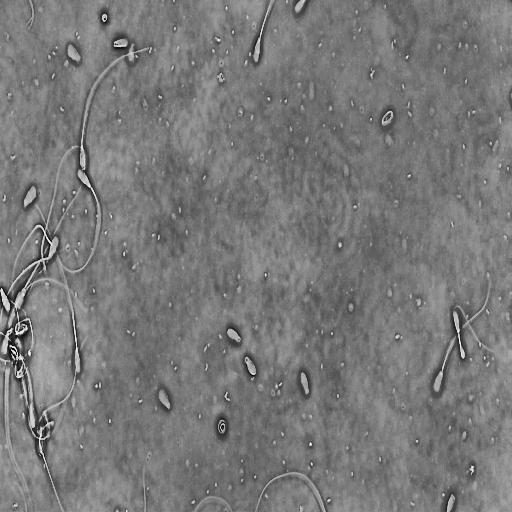dirt-particles: (216, 415, 229, 438), (101, 10, 109, 24)
folded-tail: (0, 256, 48, 322), (453, 305, 493, 351), (458, 334, 465, 359), (458, 333, 461, 342)
loose-head: (22, 183, 38, 211), (156, 385, 172, 412), (298, 367, 311, 399), (243, 354, 258, 380), (225, 325, 243, 346), (0, 286, 11, 315), (112, 35, 130, 51)
loose-tail: (11, 221, 55, 304)
normal: (76, 42, 156, 172), (427, 264, 496, 404), (0, 233, 61, 327), (55, 165, 102, 276), (449, 300, 500, 368)
